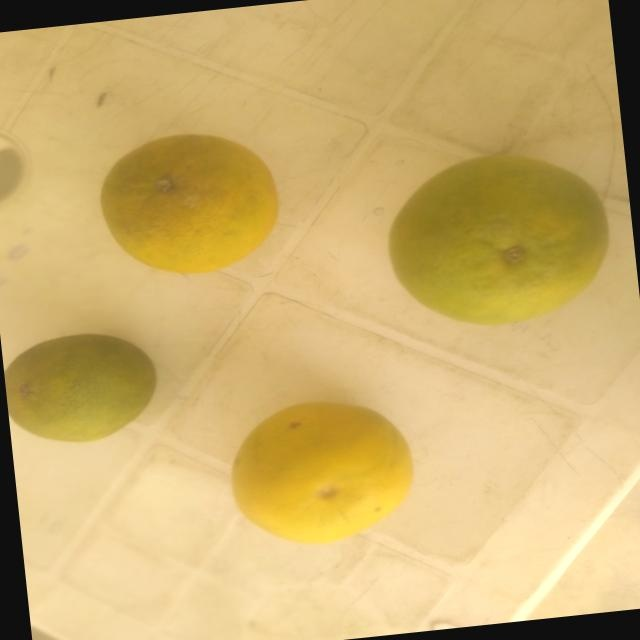agrume: (380, 132, 623, 339), (217, 382, 419, 569), (87, 120, 280, 291)
